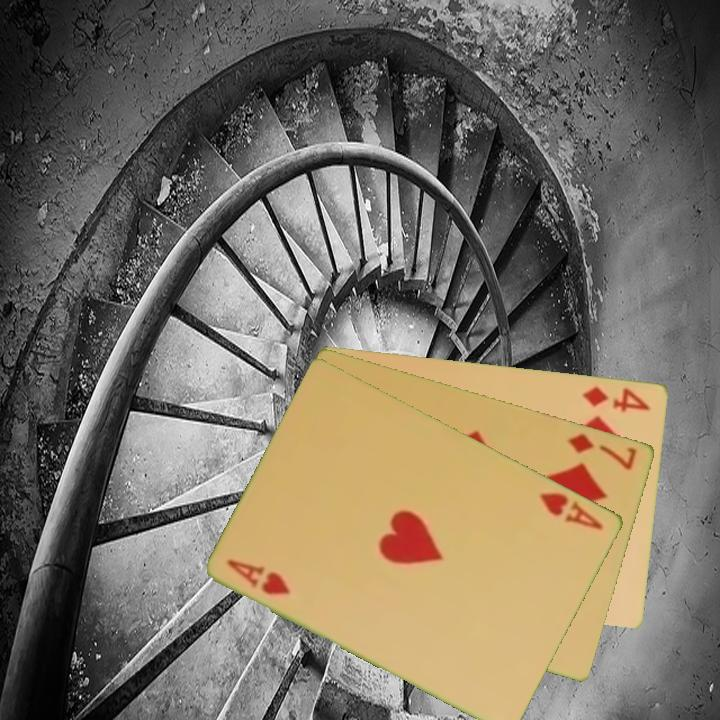4d: (579, 383, 653, 414)
7d: (565, 429, 640, 473)
Ah: (536, 488, 606, 533), (224, 555, 294, 598)
